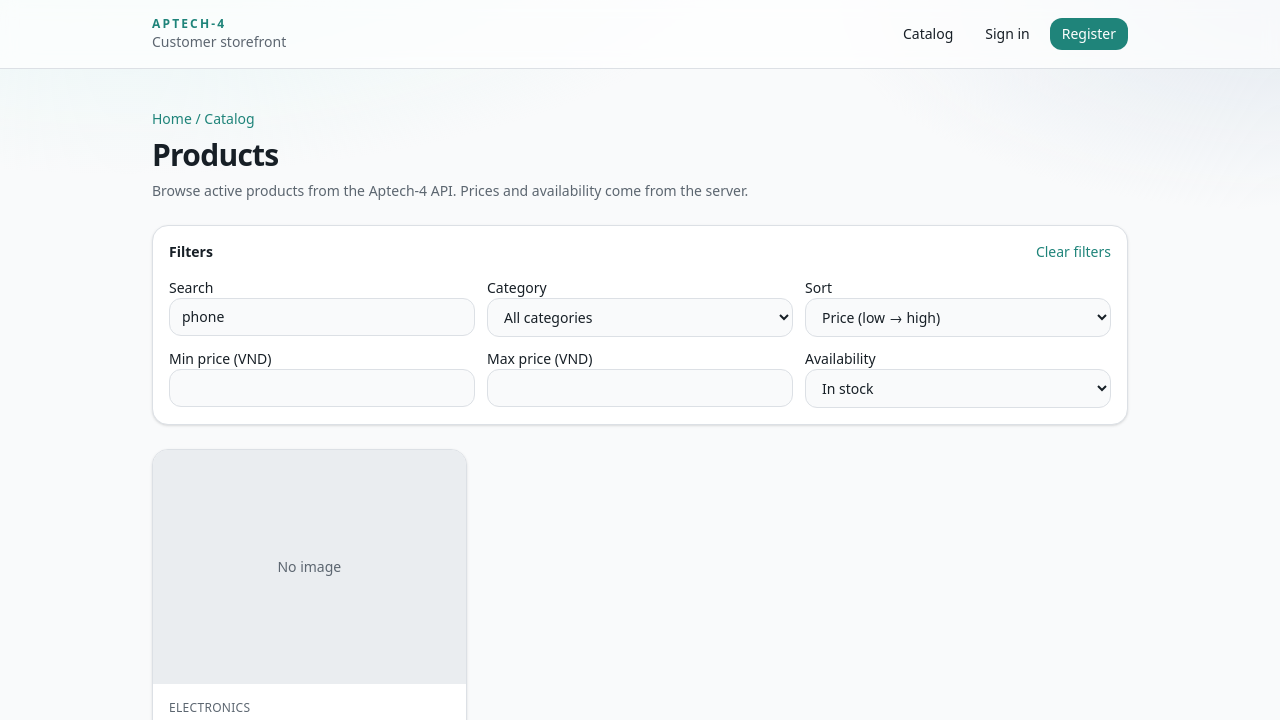
Test: ProductListPage › clears filters back to defaults
Click the button "Clear filters".
click(1073, 252)  # box [1036, 242, 1111, 262]
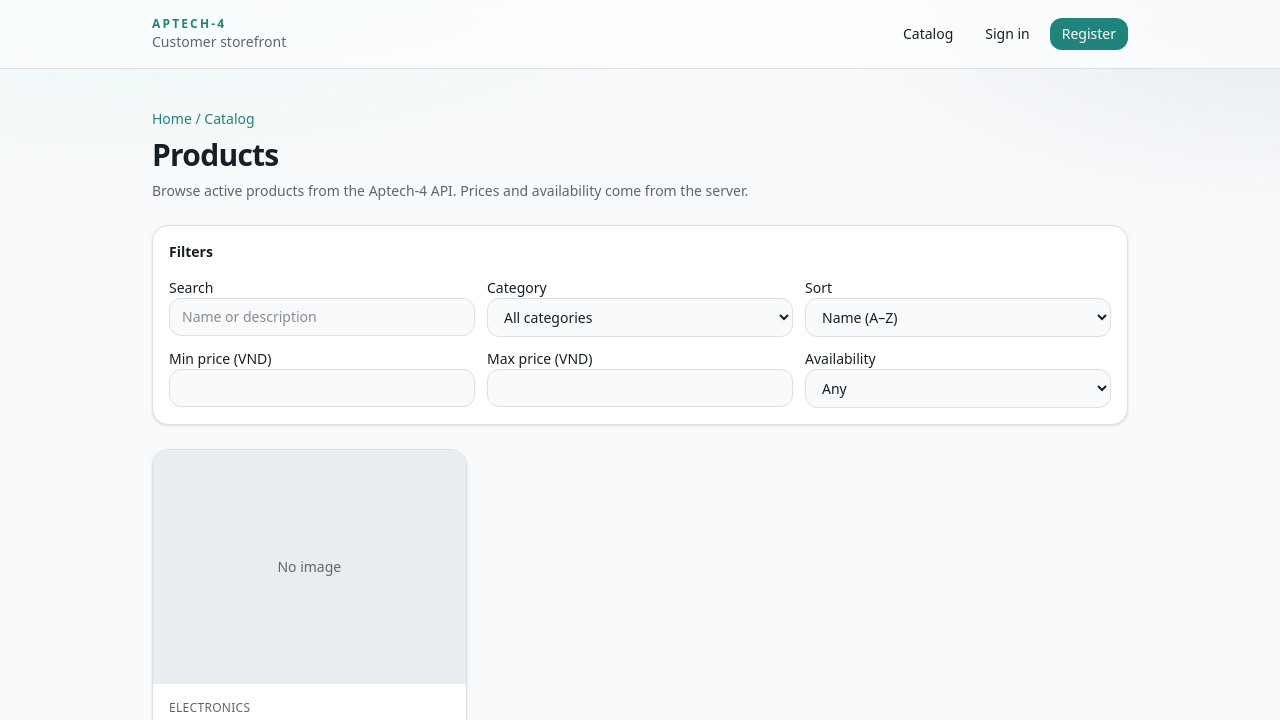
Check: the search field labelled "Search" is empty, box [169, 298, 475, 336]
Check: the dropdown labelled "Availability" shows "Any", box [805, 369, 1111, 408]
Check: the dropdown labelled "Sort" shows "Name (A–Z)", box [805, 298, 1111, 337]
